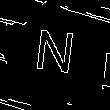N_S: (35, 30, 82, 84)
